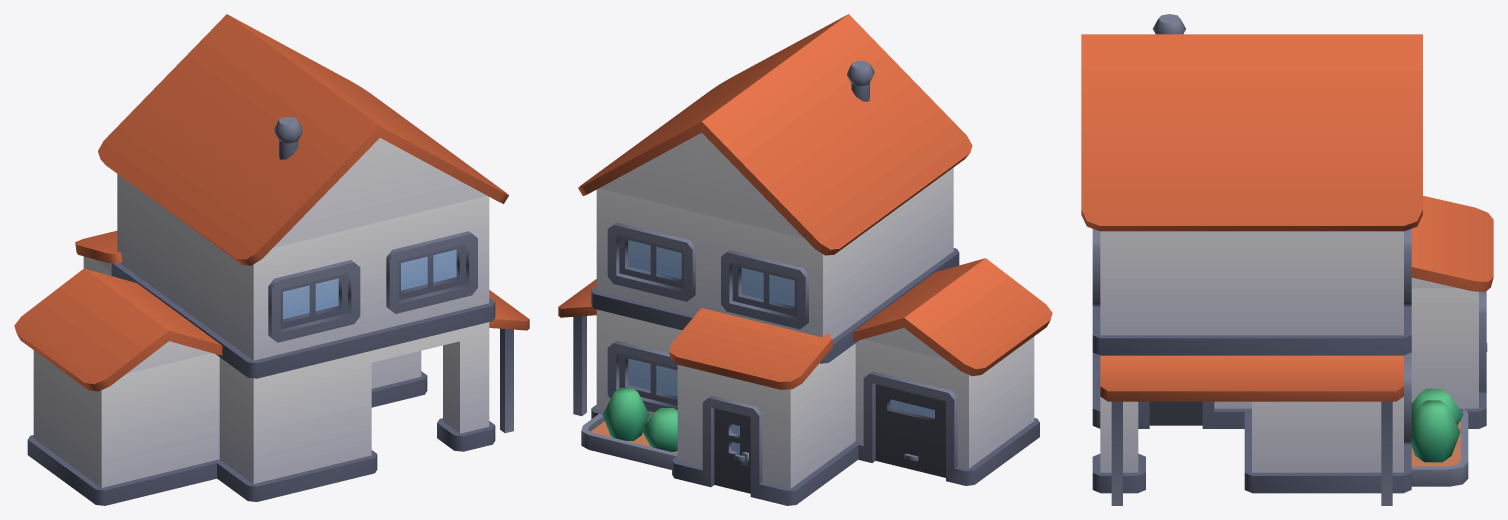
File: house_suburb_s_warm.glb
3 renders of one model, left to right at view 1: azimuth 30°, elevation 25°; view 2: azimuth 150°, elevation 25°; view 3: azimuth 270°, elevation 25°, orthographic. The views are drawn at different scales.
Parts seen in each view (by area): view 1: building-type-s; view 2: building-type-s; view 3: building-type-s.
Part boxes in pixels (x1,y1,x2,y2): building-type-s: (14,14,529,505); building-type-s: (558,14,1052,505); building-type-s: (1081,14,1493,505).
Bounding box in the file's own units: 1.41 × 1.14 × 1.09.
1 material, 1 textured.
